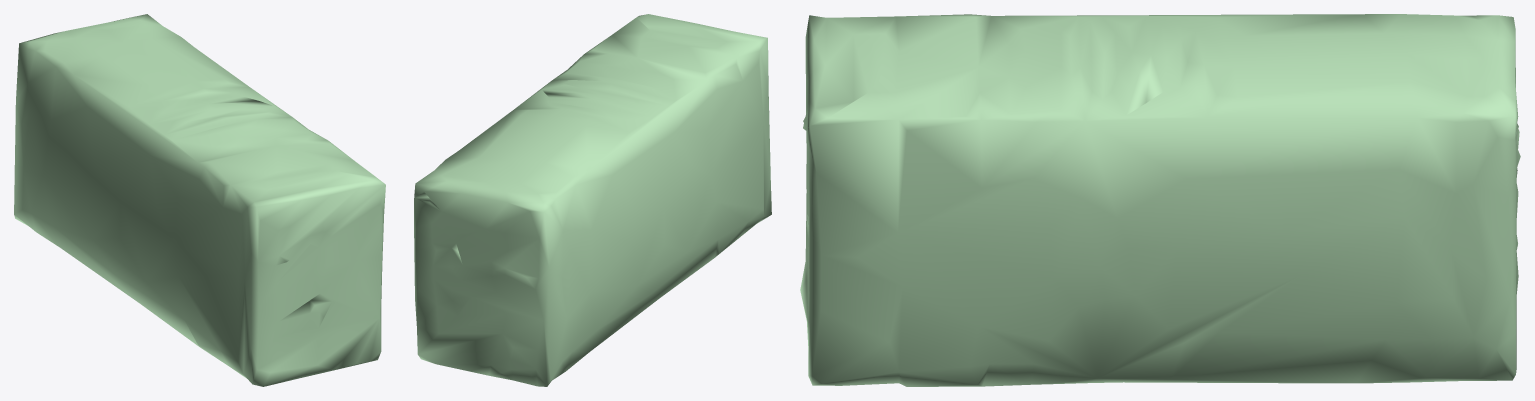
The model's file is rectangularCube1_0.dae.
The picture shows the model from 3 angles, left to right: view 1: azimuth 30°, elevation 25°; view 2: azimuth 150°, elevation 25°; view 3: azimuth 270°, elevation 25°; orthographic projection. The views are drawn at different scales.
Parts seen in each view (by area): view 1: BlueSaltCube_800_tex_019; view 2: BlueSaltCube_800_tex_019; view 3: BlueSaltCube_800_tex_019.
Part boxes in pixels (bbox=[...]): BlueSaltCube_800_tex_019: bbox=[14, 14, 385, 386]; BlueSaltCube_800_tex_019: bbox=[414, 14, 771, 386]; BlueSaltCube_800_tex_019: bbox=[800, 14, 1520, 386].
Size of the model in its own units: 0.0366 by 0.0986 by 0.045.
